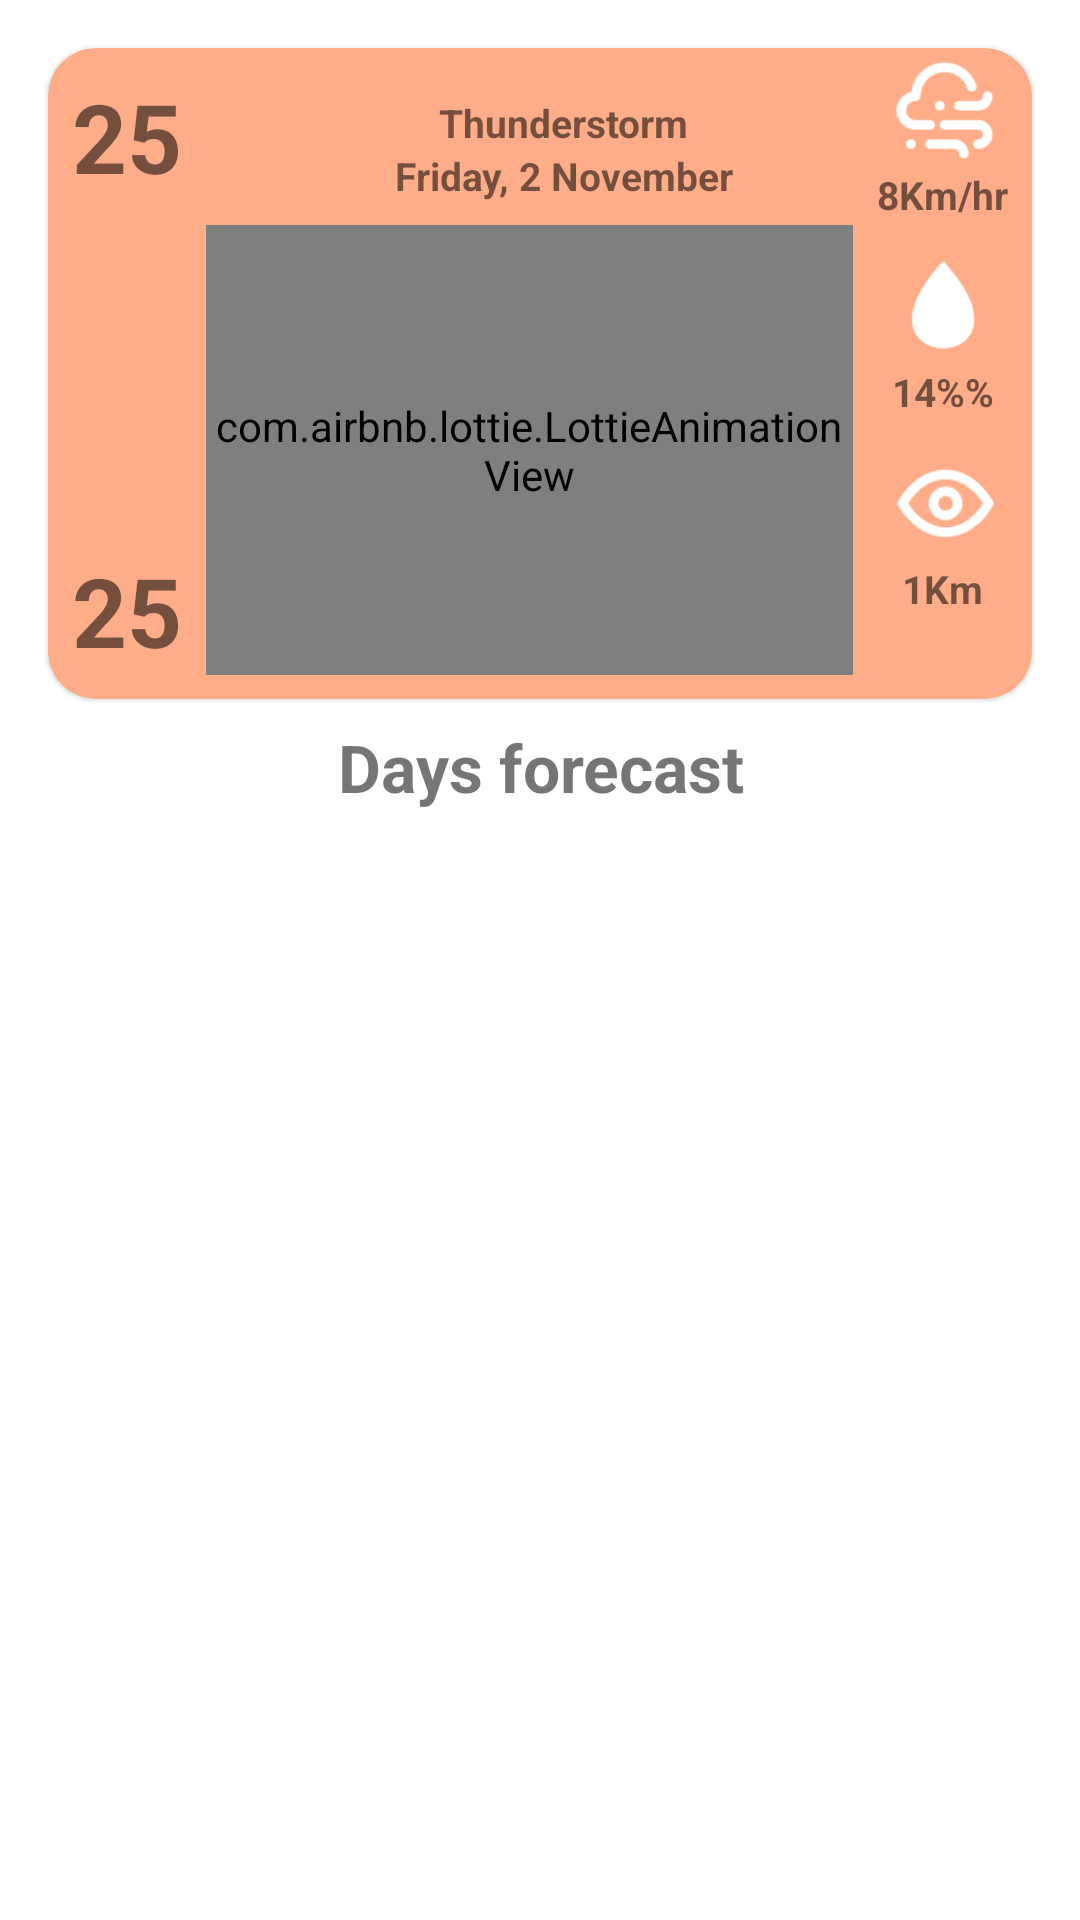

Icons on this 1080 x 1920 Android screen, each with the point to tap as point (x, y):
humidity: point (943, 305)
visibility: point (945, 503)
wind: point (944, 110)
